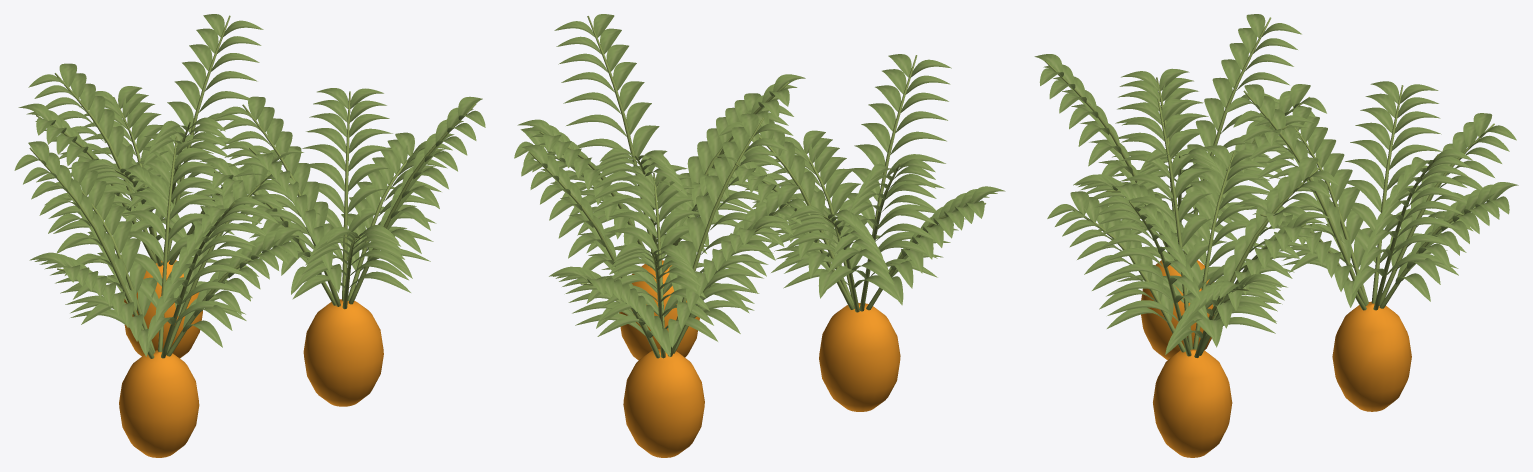
File: carrot_mature.glb
3 views of the same model, side by side, from view 1: azimuth 30°, elevation 25°; view 2: azimuth 150°, elevation 25°; view 3: azimuth 270°, elevation 25° (orthographic).
Visible parts, largest first — view 1: leaves, fruit, stems; view 2: leaves, fruit, stems; view 3: leaves, fruit, stems.
Part boxes in pixels (bbox=[...]): leaves: bbox=[14, 14, 485, 356]; fruit: bbox=[119, 260, 383, 457]; stems: bbox=[29, 15, 476, 358]; leaves: bbox=[514, 14, 1005, 357]; fruit: bbox=[619, 260, 900, 457]; stems: bbox=[529, 16, 985, 358]; leaves: bbox=[1034, 14, 1518, 354]; fruit: bbox=[1141, 260, 1411, 457]; stems: bbox=[1045, 17, 1494, 357].
Bounding box in the file's own units: 0.8052 × 0.5235 × 0.7559.
